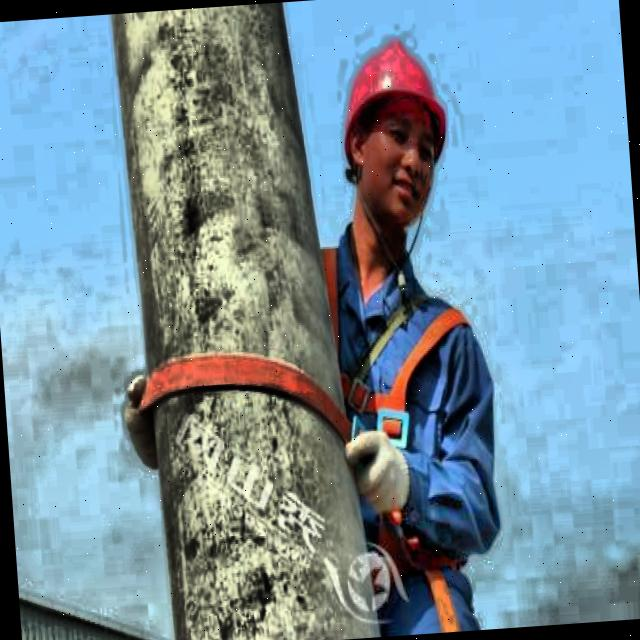helmet: (319, 5, 471, 272)
